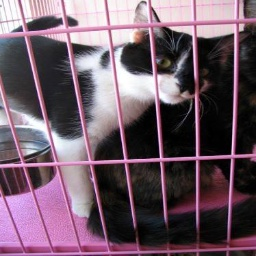cat: (0, 9, 256, 245)
